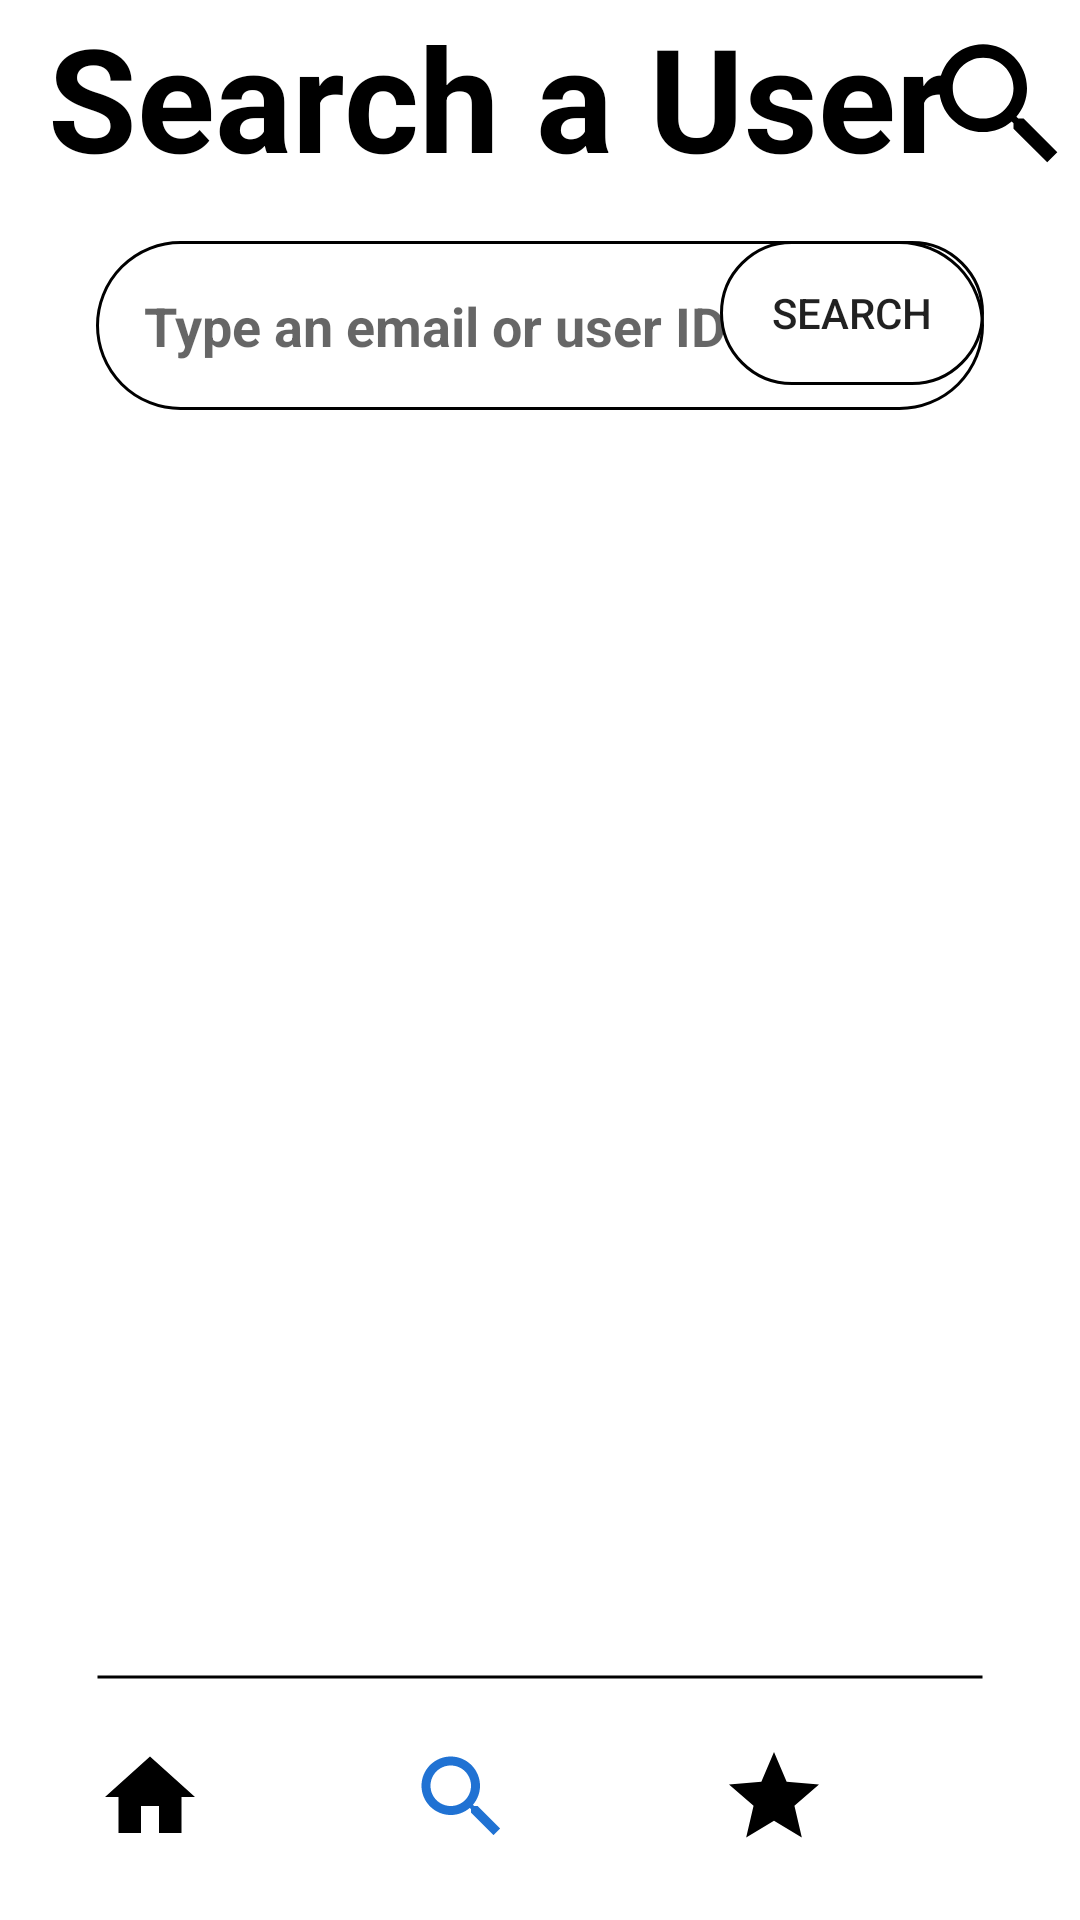

Icons on this 1080×1920 Android screen, each with the point to tap as (x=x, y=y):
home: (x=150, y=1794)
star: (x=774, y=1795)
